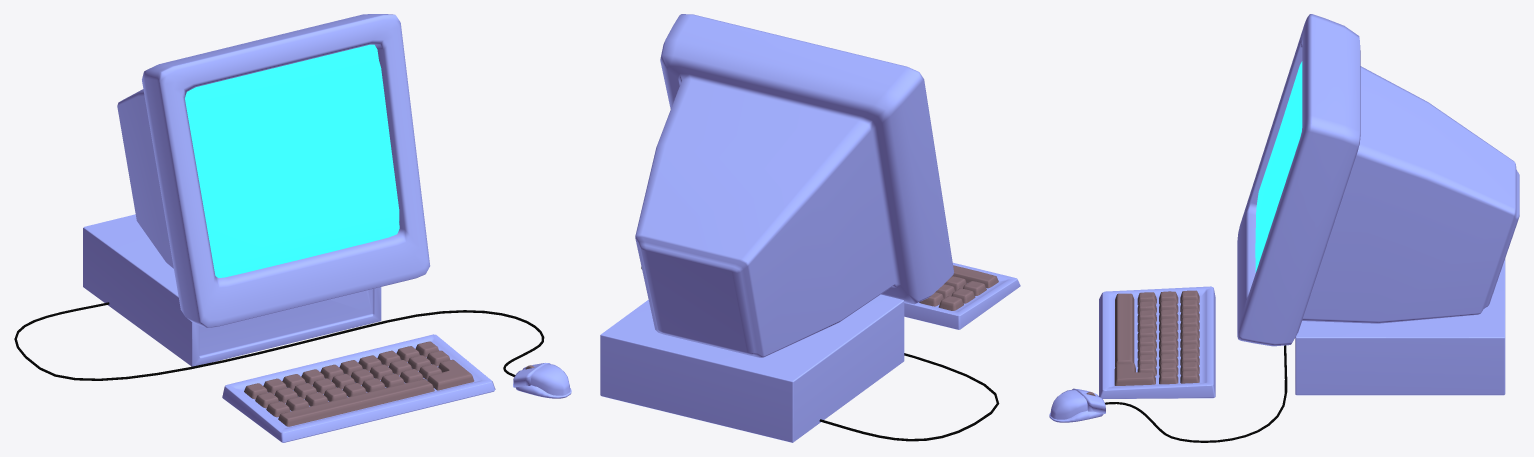
3 renders of one model, left to right at view 1: azimuth 30°, elevation 25°; view 2: azimuth 150°, elevation 25°; view 3: azimuth 270°, elevation 25°, orthographic. The views are drawn at different scales.
Parts seen in each view (by area): view 1: PC_mult_mat; view 2: PC_mult_mat; view 3: PC_mult_mat.
Part boxes in pixels (x1,y1,x2,y2): PC_mult_mat: [14, 14, 571, 442]; PC_mult_mat: [600, 14, 1020, 442]; PC_mult_mat: [1049, 14, 1519, 442].
Size of the model in its own units: 1.15 by 0.7879 by 1.18.
